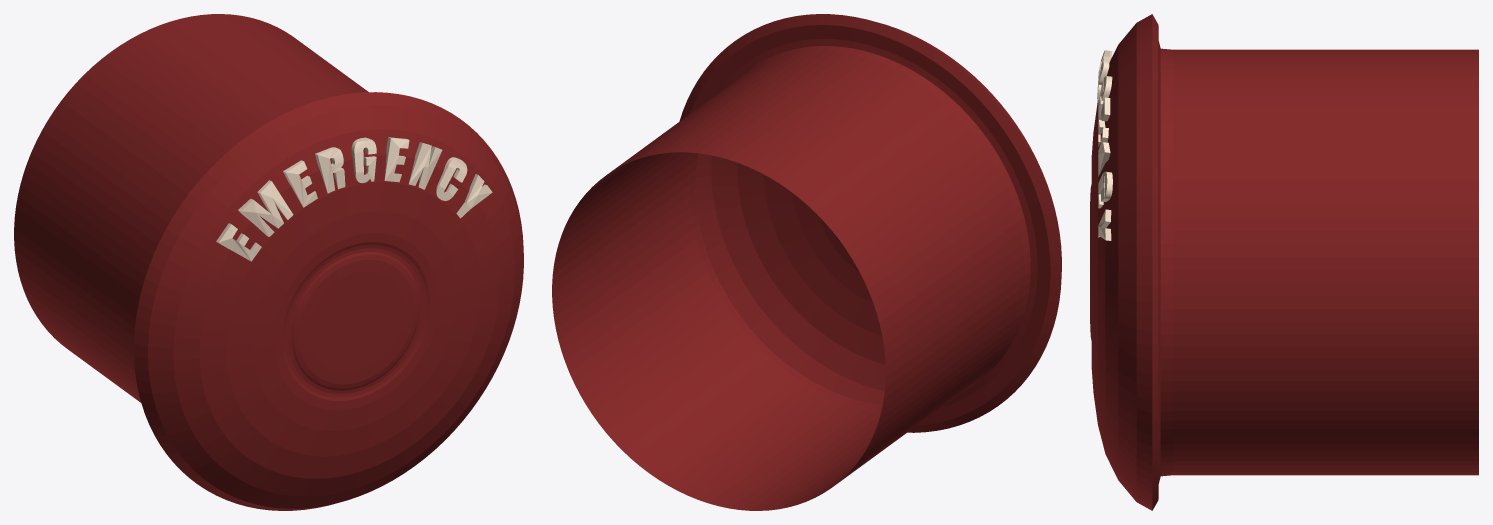
Rendered from emergencybutton.fbx.
3 renders of one model, left to right at view 1: azimuth 30°, elevation 25°; view 2: azimuth 150°, elevation 25°; view 3: azimuth 270°, elevation 25°, orthographic. The views are drawn at different scales.
Visible parts, largest first — view 1: exitbutton button; view 2: exitbutton button; view 3: exitbutton button.
Part boxes in pixels (x1,y1,x2,y2): exitbutton button: (14,14,523,510); exitbutton button: (552,14,1061,510); exitbutton button: (1090,14,1478,510).
Bounding box in the file's own units: 76.05 × 76.09 × 59.53.
